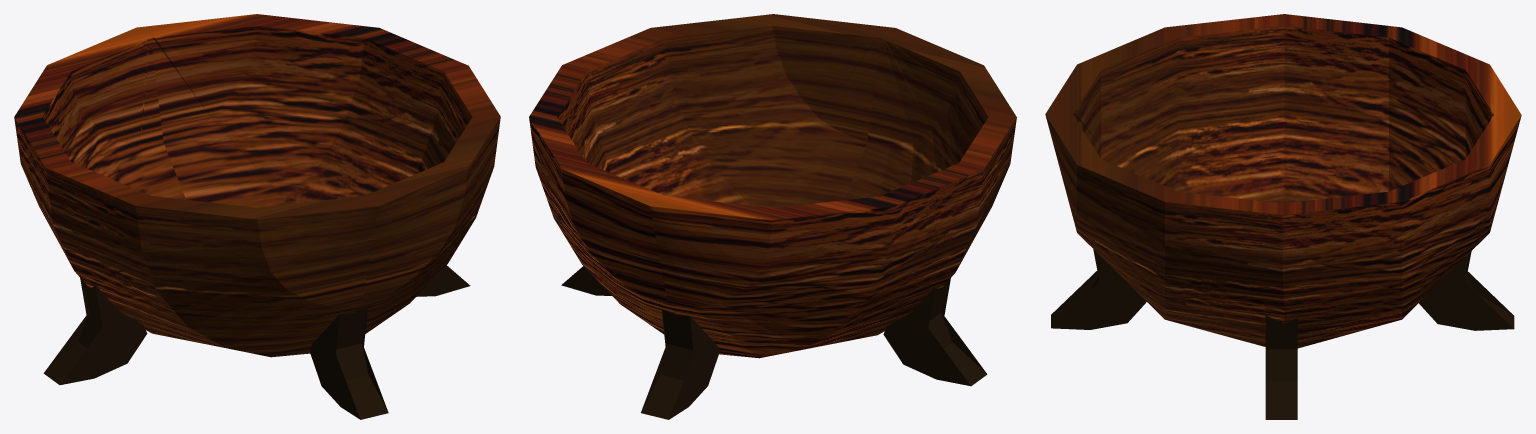
The model's file is NutBowl.glb.
3 renders of one model, left to right at view 1: azimuth 30°, elevation 25°; view 2: azimuth 150°, elevation 25°; view 3: azimuth 270°, elevation 25°, orthographic. The views are drawn at different scales.
Visible parts, largest first — view 1: NutBowl; view 2: NutBowl; view 3: NutBowl.
Boxes of the visible parts, box(x1,y1,x2,y2) form: NutBowl: box(14, 14, 500, 419); NutBowl: box(529, 14, 1016, 419); NutBowl: box(1045, 14, 1521, 419).
Bounding box in the file's own units: 214 × 107 × 214.
Materials: 1 (1 with a texture image).
